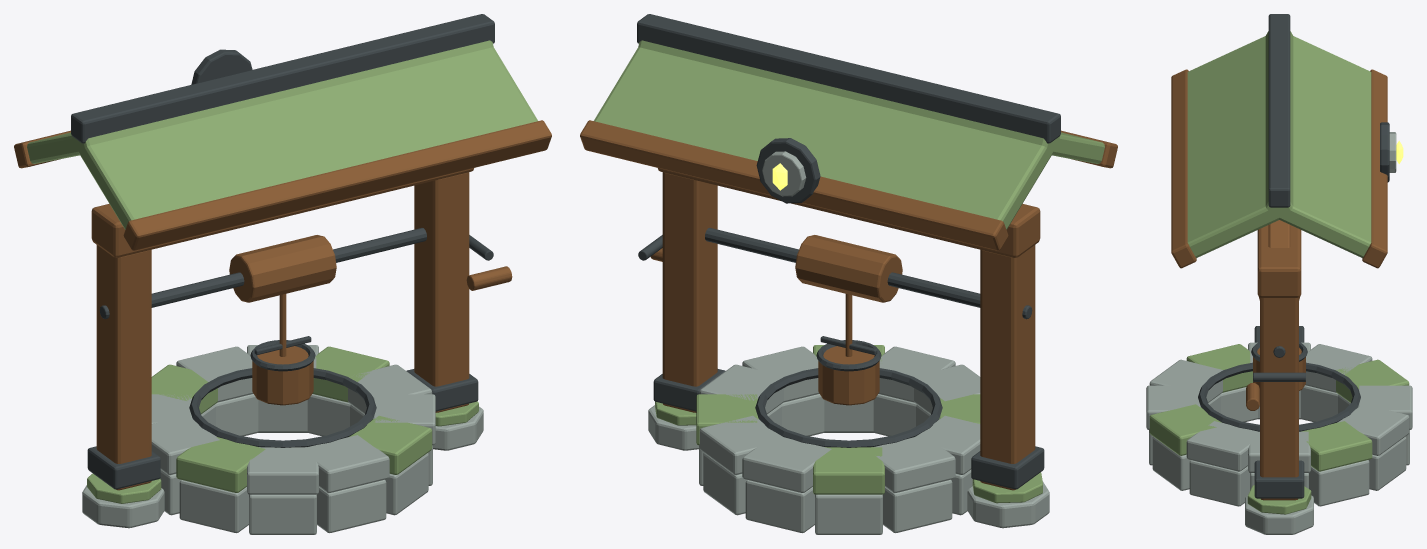
File: SM_EmbermereFenwatchCommunalWell_01.fbx
The picture shows the model from 3 angles, left to right: view 1: azimuth 30°, elevation 25°; view 2: azimuth 150°, elevation 25°; view 3: azimuth 270°, elevation 25°; orthographic projection. The views are drawn at different scales.
Visible parts, largest first — view 1: SM_EmbermereFenwatchCommunalWell_01; view 2: SM_EmbermereFenwatchCommunalWell_01; view 3: SM_EmbermereFenwatchCommunalWell_01.
Part boxes in pixels (bbox=[...]): SM_EmbermereFenwatchCommunalWell_01: bbox=[14, 14, 551, 534]; SM_EmbermereFenwatchCommunalWell_01: bbox=[580, 14, 1117, 534]; SM_EmbermereFenwatchCommunalWell_01: bbox=[1146, 14, 1412, 534].
Size of what is drawn, in the model's own units: 348 by 220 by 322.
